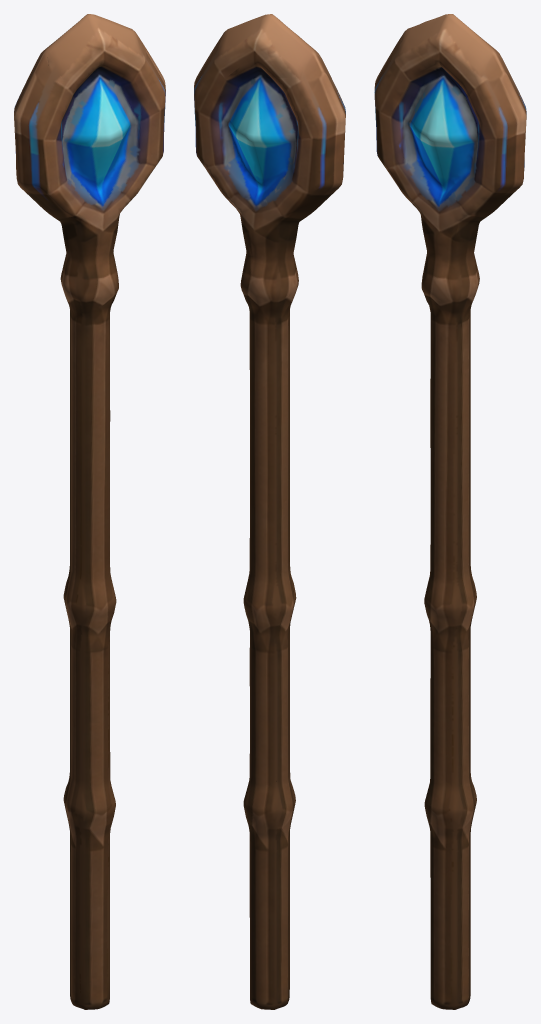
Rendered from magic_caster_staff.glb.
3 views of the same model, side by side, from view 1: azimuth 30°, elevation 25°; view 2: azimuth 150°, elevation 25°; view 3: azimuth 330°, elevation 25° (orthographic).
Parts seen in each view (by area): view 1: MagicCasterStaff; view 2: MagicCasterStaff; view 3: MagicCasterStaff.
Part boxes in pixels (<box>): MagicCasterStaff: <box>14,14,165,1009</box>; MagicCasterStaff: <box>194,14,345,1009</box>; MagicCasterStaff: <box>374,14,526,1009</box>.
Size of the model in its own units: 0.2626 by 1.65 by 0.1253.
Materials: 1 (1 with a texture image).
